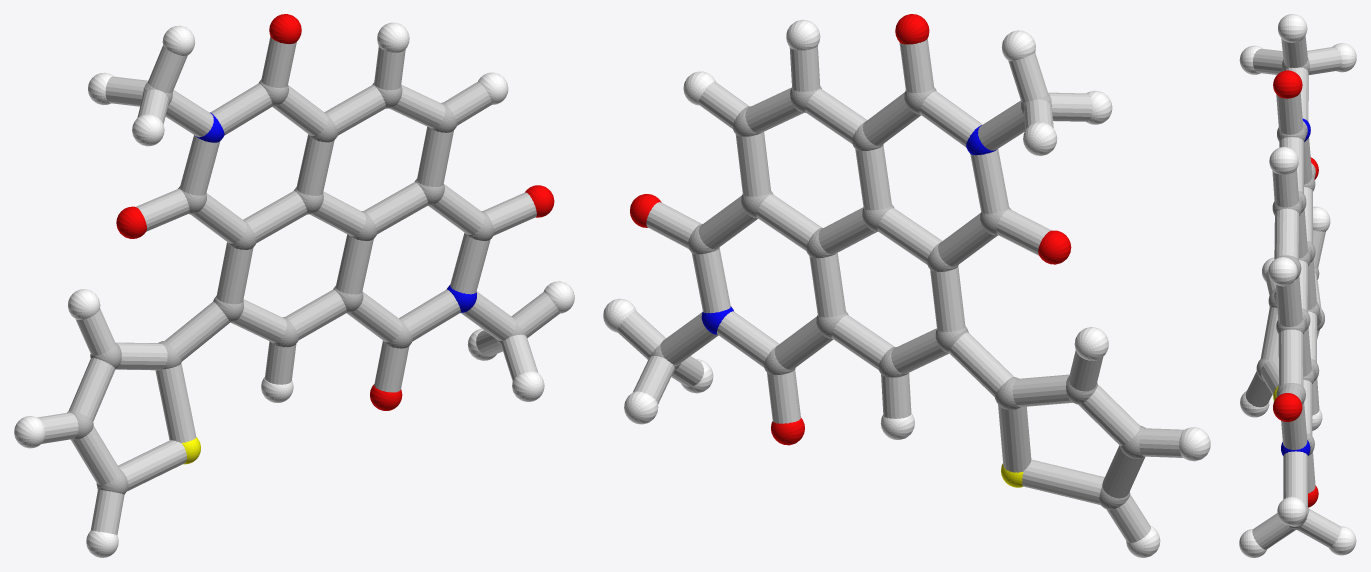
File: Dimethyl_Naphthalene_Dicarboximide_Phi_20_Theta_10_Thiophene.glb
The picture shows the model from 3 angles, left to right: view 1: azimuth 30°, elevation 25°; view 2: azimuth 150°, elevation 25°; view 3: azimuth 270°, elevation 25°; orthographic projection. The views are drawn at different scales.
Parts seen in each view (by area): view 1: grp14119, grp7241, grp1, grp12309, grp11585; view 2: grp14119, grp7241, grp1, grp12309, grp11585; view 3: grp14119, grp7241, grp1, grp12309, grp11585.
Boxes of the visible parts, left/top/right/bottom form: grp14119: left=37, top=36, right=559, bottom=534; grp7241: left=14, top=22, right=574, bottom=557; grp1: left=67, top=79, right=525, bottom=494; grp12309: left=116, top=14, right=554, bottom=410; grp11585: left=196, top=112, right=476, bottom=312; grp14119: left=617, top=39, right=1184, bottom=542; grp7241: left=603, top=19, right=1210, bottom=557; grp1: left=650, top=86, right=1145, bottom=509; grp12309: left=630, top=14, right=1071, bottom=445; grp11585: left=701, top=125, right=997, bottom=334; grp14119: left=1245, top=36, right=1341, bottom=549; grp7241: left=1239, top=14, right=1356, bottom=557; grp1: left=1256, top=58, right=1324, bottom=529; grp12309: left=1273, top=70, right=1318, bottom=507; grp11585: left=1281, top=118, right=1310, bottom=455.
Size of the model in its own units: 12.03 by 9.97 by 2.39.
